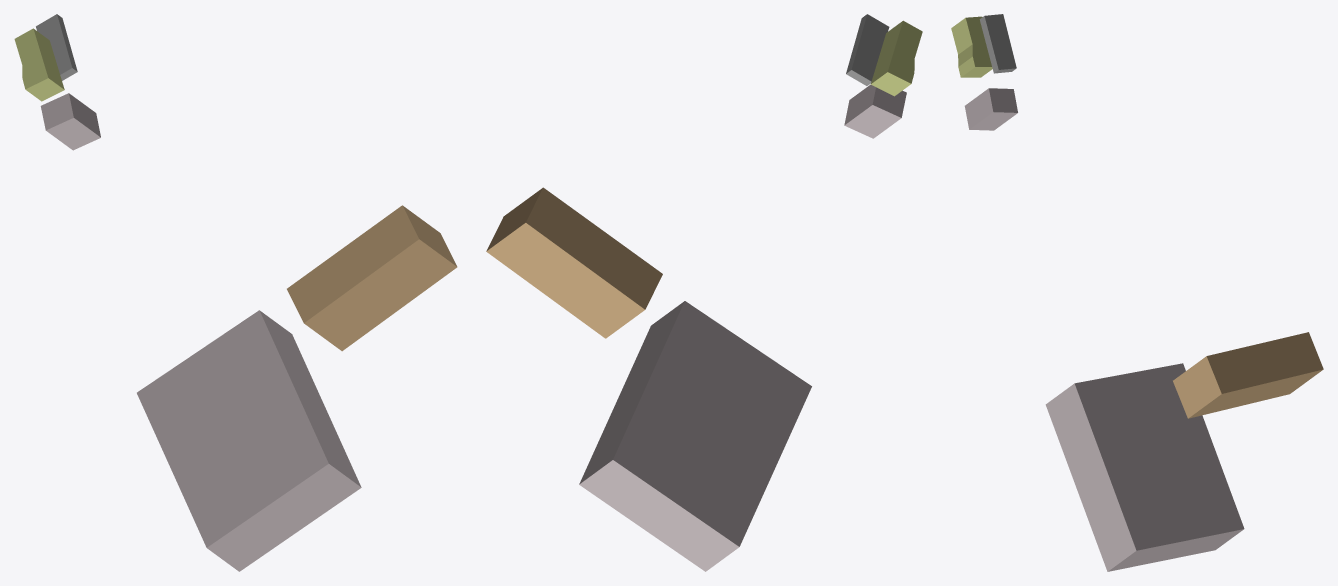
The picture shows the model from 3 angles, left to right: view 1: azimuth 30°, elevation 25°; view 2: azimuth 150°, elevation 25°; view 3: azimuth 330°, elevation 25°; orthographic projection. The views are drawn at different scales.
Visible parts, largest first — view 1: 0_1_0_2_0_1_3; view 2: 0_1_0_2_0_1_3; view 3: 0_1_0_2_0_1_3.
Boxes of the visible parts, bbox=[...] form: 0_1_0_2_0_1_3: bbox=[14, 14, 457, 571]; 0_1_0_2_0_1_3: bbox=[486, 14, 922, 571]; 0_1_0_2_0_1_3: bbox=[951, 14, 1323, 571].
Bounding box in the file's own units: 128 × 173 × 21.2.
